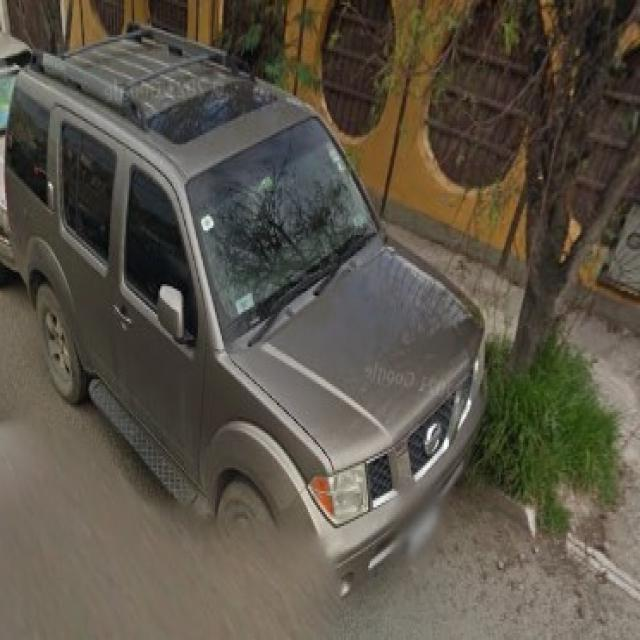car: (2, 22, 491, 599)
